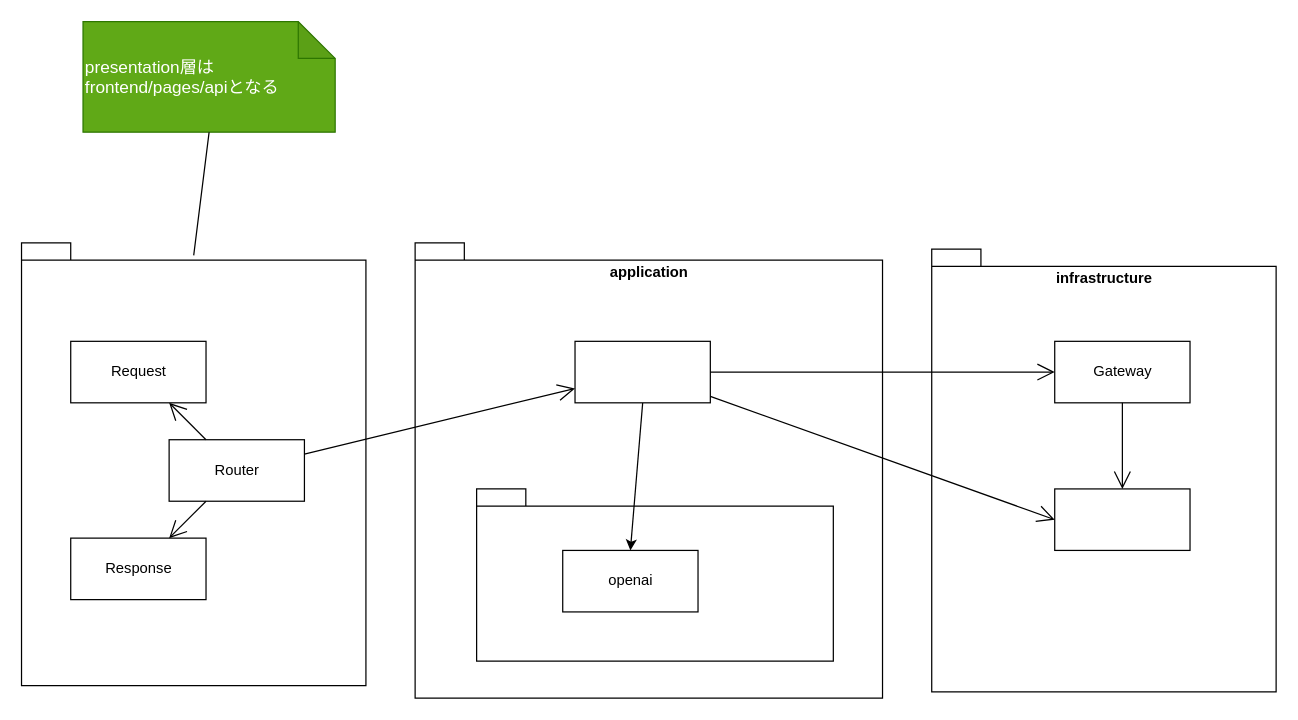
Image size: 1298x720. Some labels were removed from this diagram. The shapes that lost their labels are listed below. From the top down, each one's box as (x1, y1, x2, y2) in pixels, then its label:
(574, 340, 710, 403): Service
(20, 242, 366, 686): presentation
(1053, 488, 1190, 550): Record
(475, 488, 833, 661): features
